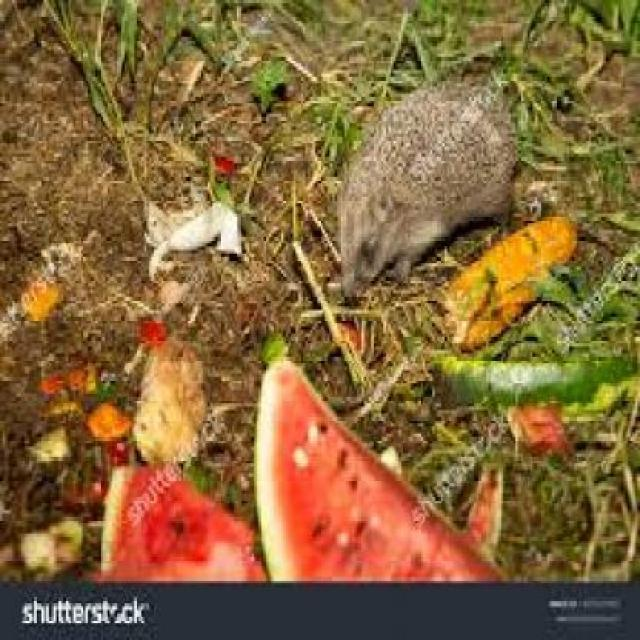garbage: (97, 340, 568, 623), (323, 63, 577, 326), (138, 183, 244, 263), (20, 257, 81, 367), (22, 503, 90, 576)
